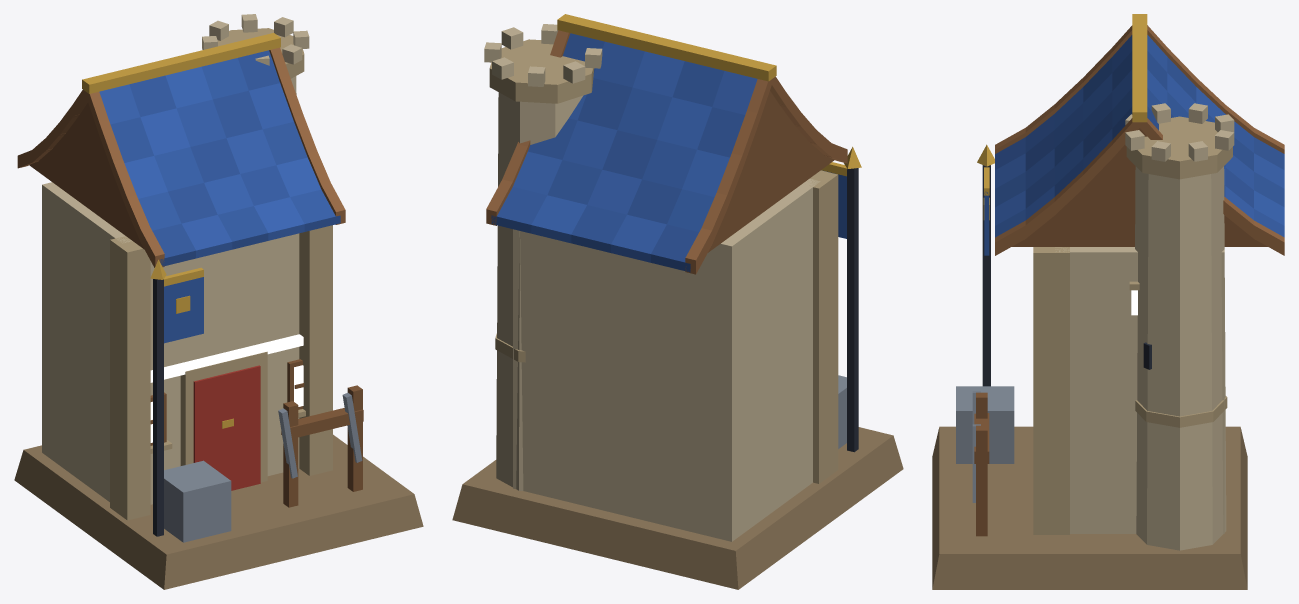
File: camp_militia_t3.glb
The picture shows the model from 3 angles, left to right: view 1: azimuth 30°, elevation 25°; view 2: azimuth 150°, elevation 25°; view 3: azimuth 270°, elevation 25°; orthographic projection. The views are drawn at different scales.
Visible parts, largest first — view 1: body, glow; view 2: body; view 3: body.
Part boxes in pixels (bbox=[...]): body: bbox=[14, 14, 423, 589]; glow: bbox=[150, 334, 303, 442]; body: bbox=[452, 14, 903, 589]; body: bbox=[932, 14, 1284, 589].
Bounding box in the file's own units: 1.9 × 3.01 × 2.12.
